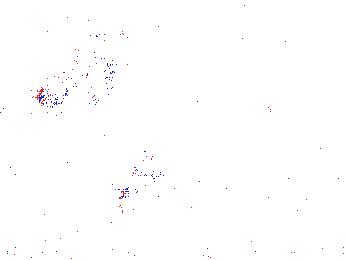flame jellyfish: (35, 46, 121, 109), (245, 172, 314, 226), (114, 141, 168, 201)
